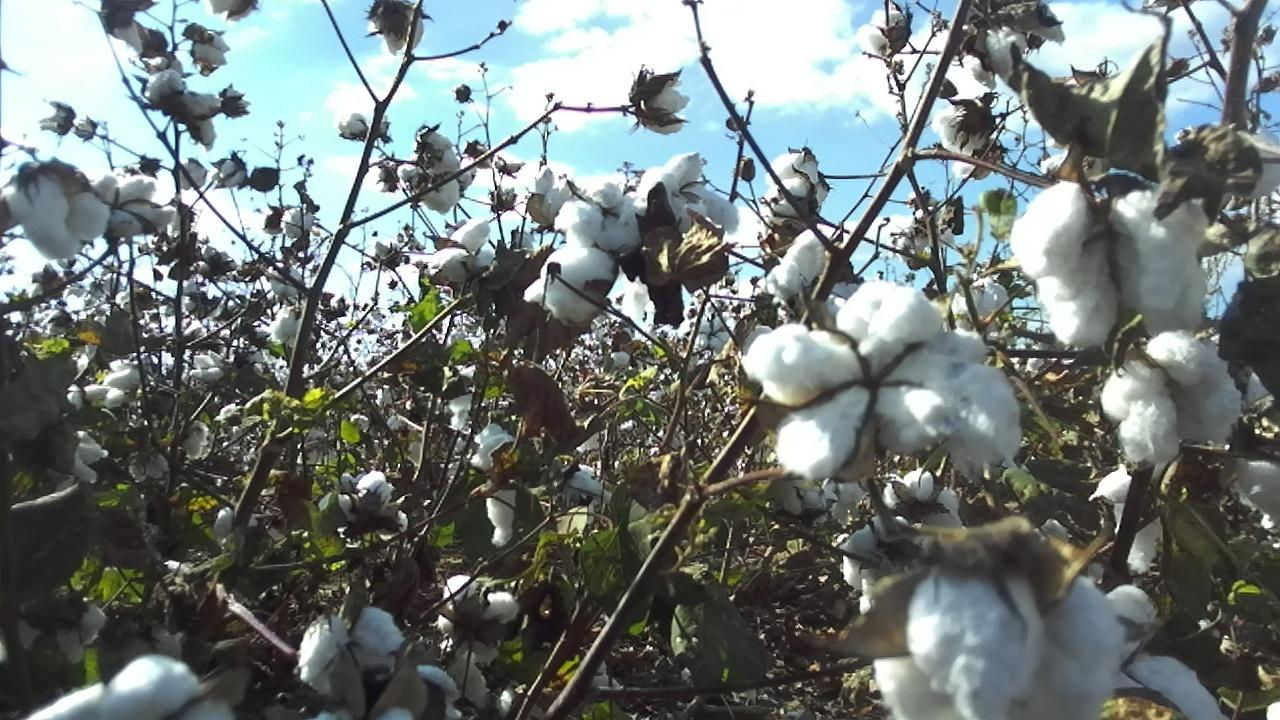cotton_ready: (742, 277, 1020, 471), (866, 545, 1124, 720), (1009, 182, 1212, 342), (1094, 442, 1280, 572), (1102, 331, 1244, 464), (1099, 586, 1232, 720), (474, 415, 609, 542), (840, 472, 965, 588), (25, 657, 244, 720), (294, 600, 410, 694), (11, 159, 109, 264), (635, 150, 740, 234), (970, 0, 1065, 89), (759, 229, 862, 307), (437, 575, 522, 666), (522, 246, 616, 327), (327, 470, 410, 554), (399, 129, 479, 213), (555, 182, 644, 255), (760, 150, 825, 230), (102, 174, 180, 238), (377, 667, 467, 720), (429, 219, 501, 283), (638, 65, 690, 135), (932, 104, 994, 158), (304, 705, 367, 720)
